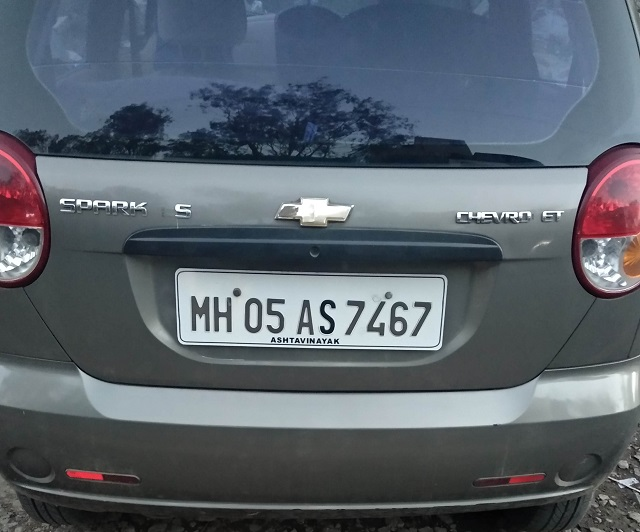licenseplate: (170, 262, 451, 349)
